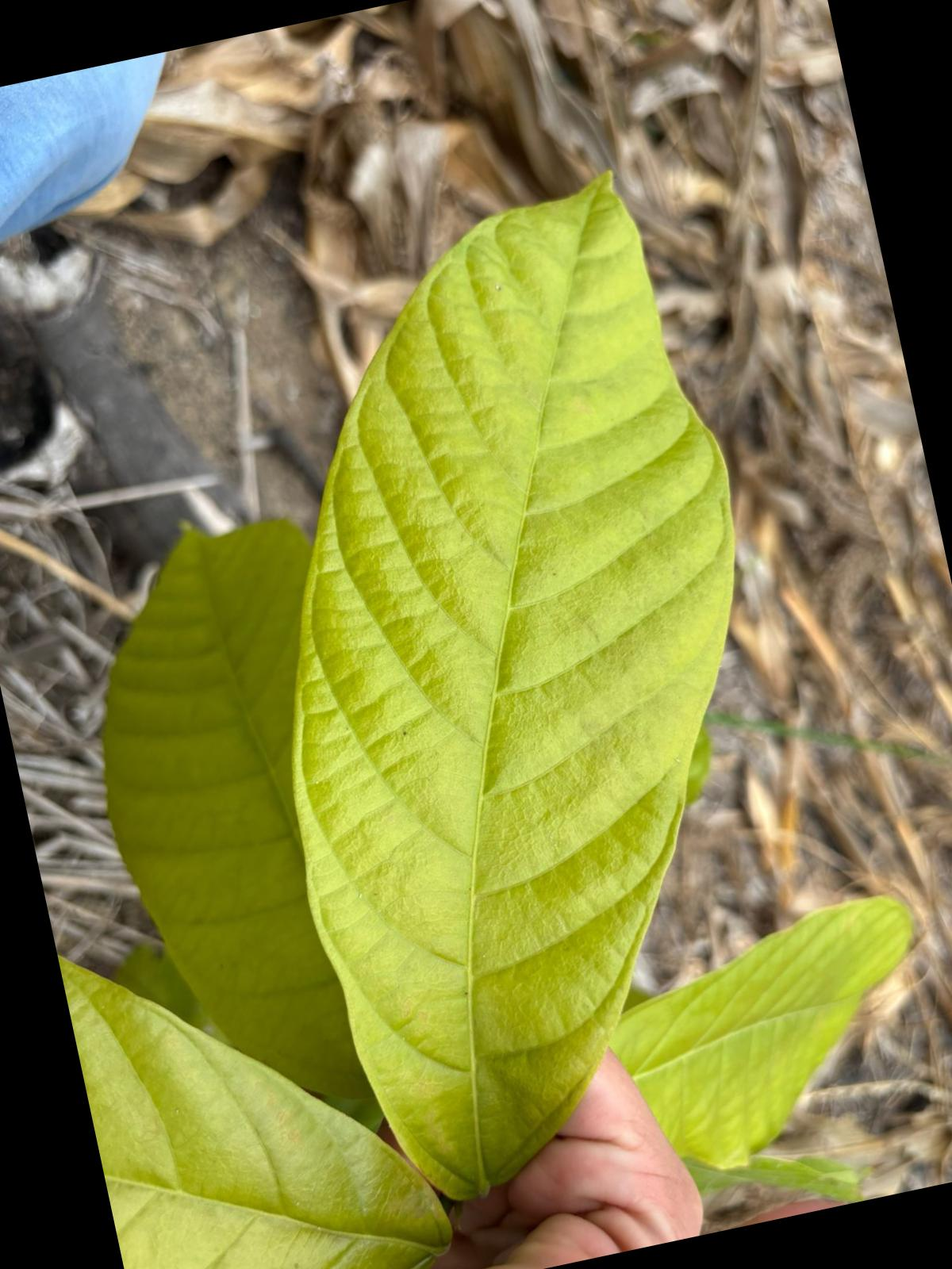Nitrogeno: (293, 175, 733, 1199)
